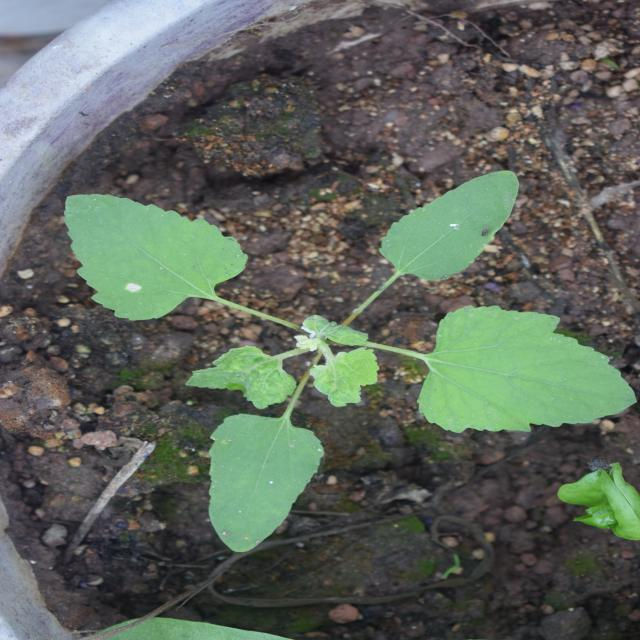cocklebur: (113, 48, 487, 588)
